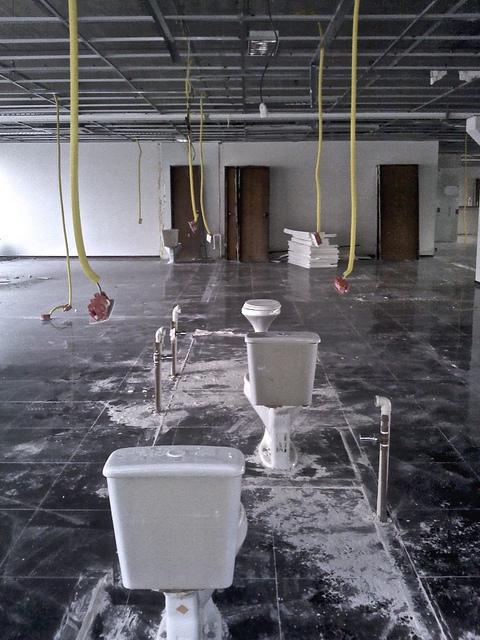Sanitario: (102, 444, 258, 634), (239, 327, 337, 474)
